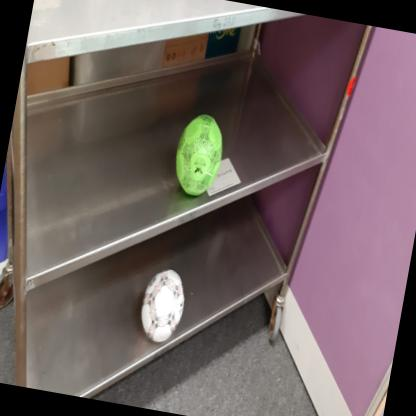ball: (169, 108, 228, 200), (136, 265, 190, 346)
